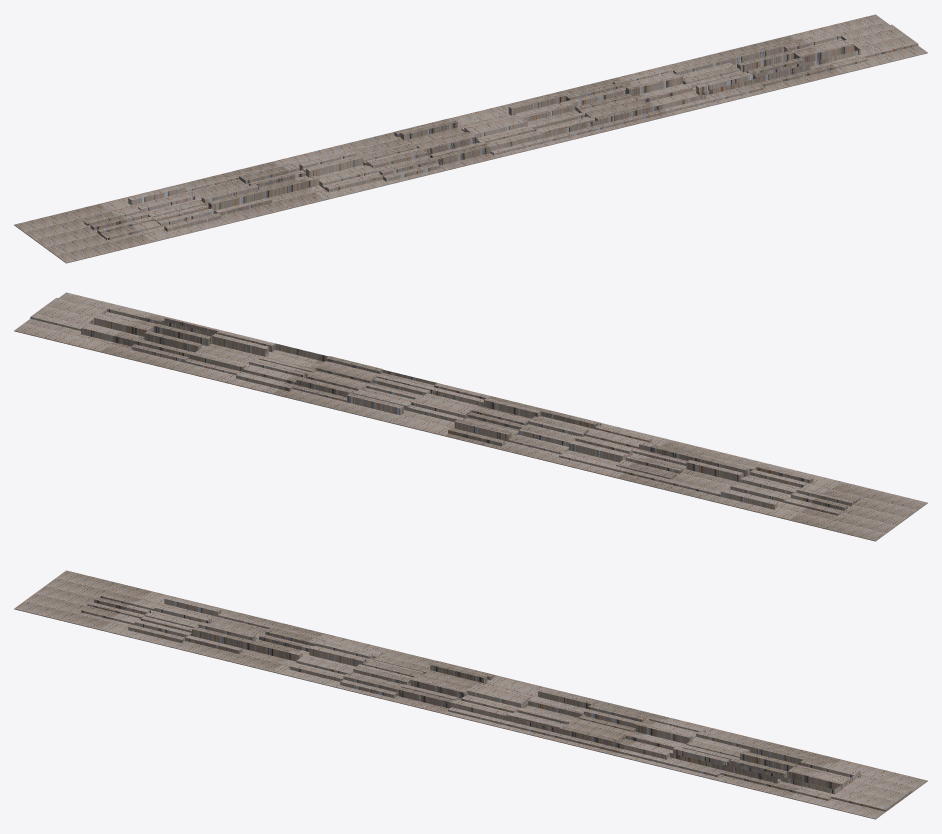
Rendered from Map_CityEscape.glb.
3 views of the same model, one above another, from view 1: azimuth 30°, elevation 25°; view 2: azimuth 150°, elevation 25°; view 3: azimuth 330°, elevation 25° (orthographic).
Parts seen in each view (by area): view 1: Cube-col; view 2: Cube-col; view 3: Cube-col.
Boxes of the visible parts, <box> form: Cube-col: <box>14,14,927,263</box>; Cube-col: <box>14,292,927,541</box>; Cube-col: <box>14,570,927,819</box>.
Bounding box in the file's own units: 626 × 5.91 × 65.83.
Materials: 1 (1 with a texture image).
